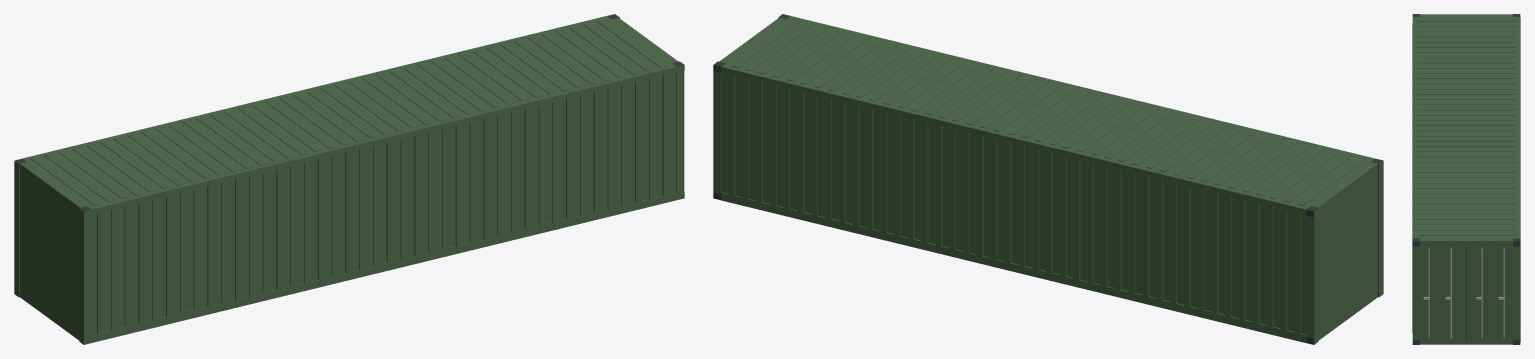
Rendered from prop_container_40_green.glb.
3 renders of one model, left to right at view 1: azimuth 30°, elevation 25°; view 2: azimuth 150°, elevation 25°; view 3: azimuth 270°, elevation 25°, orthographic. The views are drawn at different scales.
Visible parts, largest first — view 1: Container; view 2: Container; view 3: Container.
Part boxes in pixels (<box>): Container: <box>14,14,684,344</box>; Container: <box>713,14,1383,344</box>; Container: <box>1412,14,1520,344</box>.
Bounding box in the file's own units: 12.24 × 2.6 × 2.46.
